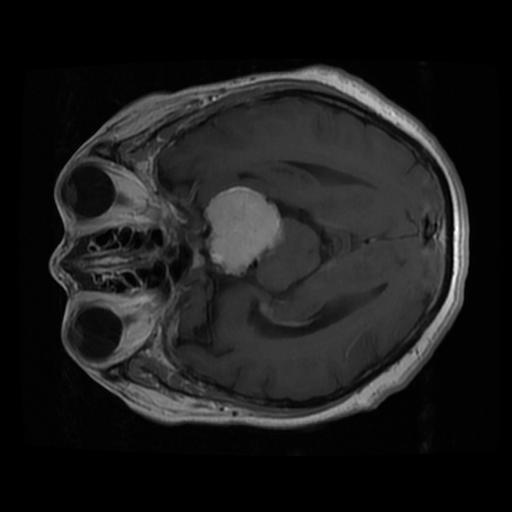meningioma: (201, 186, 286, 274)
